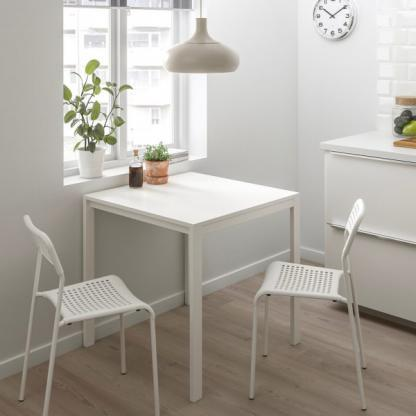chair: (22, 215, 155, 404), (256, 202, 377, 403)
